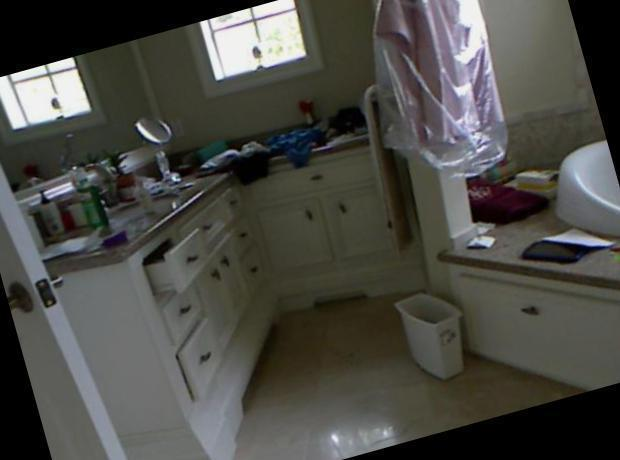Bote de Basura: (388, 273, 483, 395)
